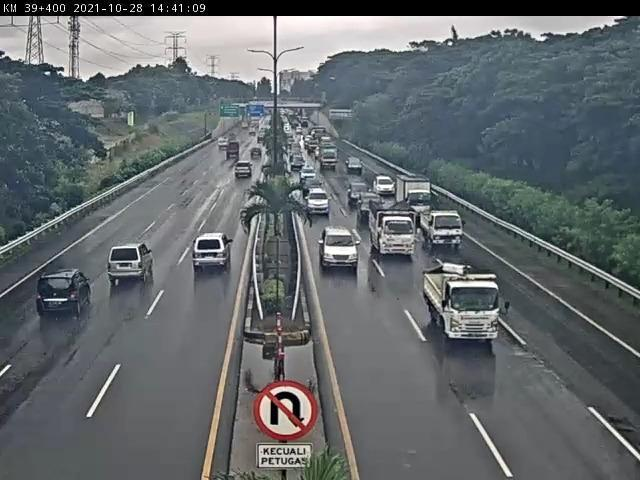car: (321, 227, 362, 269), (306, 187, 332, 216), (358, 192, 384, 219)
truck: (422, 264, 501, 346), (37, 271, 94, 320), (369, 204, 418, 259), (108, 244, 155, 287), (422, 208, 465, 252), (189, 233, 233, 274), (394, 176, 434, 218)
